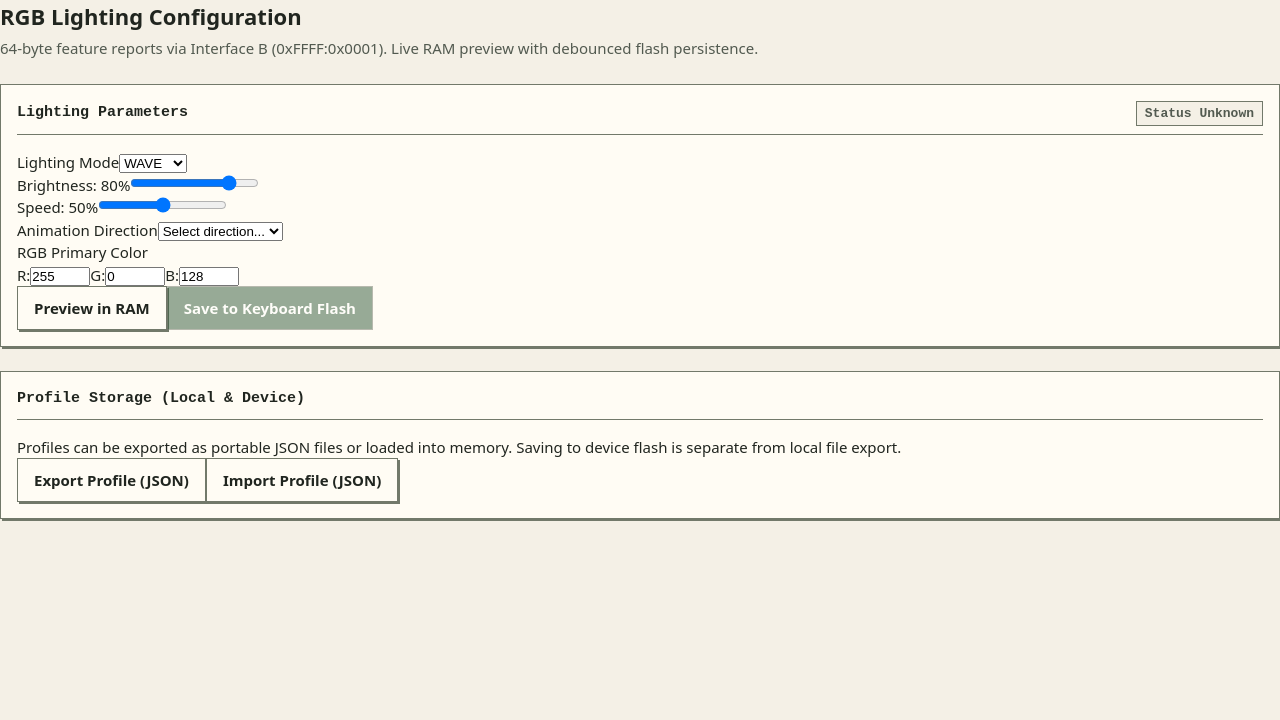
LightingPage Workflow and Safety Rails › does not default null direction to left_to_right and rejects preview when direction is null
Expected: the heading "RGB Lighting Configuration" is shown, [0,1,302,31]
Expected: the dropdown labelled "Animation Direction" shows "Select direction...", [158,222,283,240]
Attempt preview without setting direction
Click the button "Preview in RAM" at (92, 308), box [17,286,167,330]
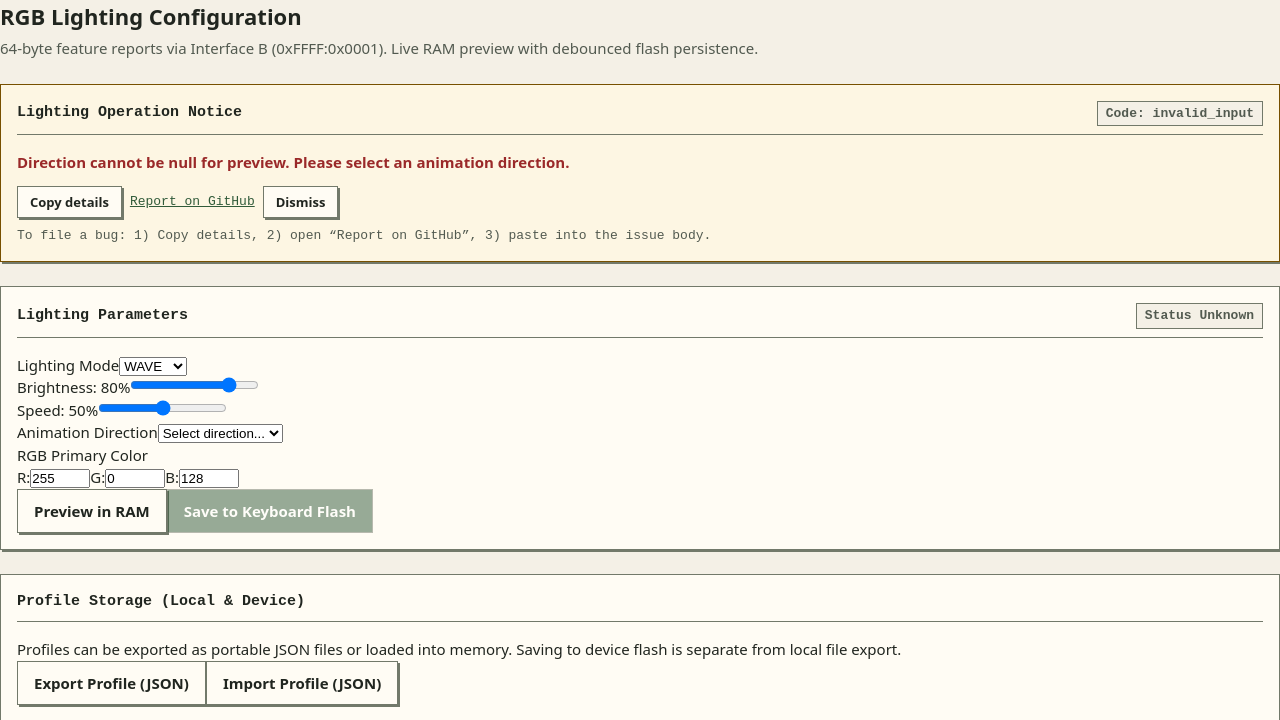
Now the text "Direction cannot be null" is shown, box [17,152,570,172]
